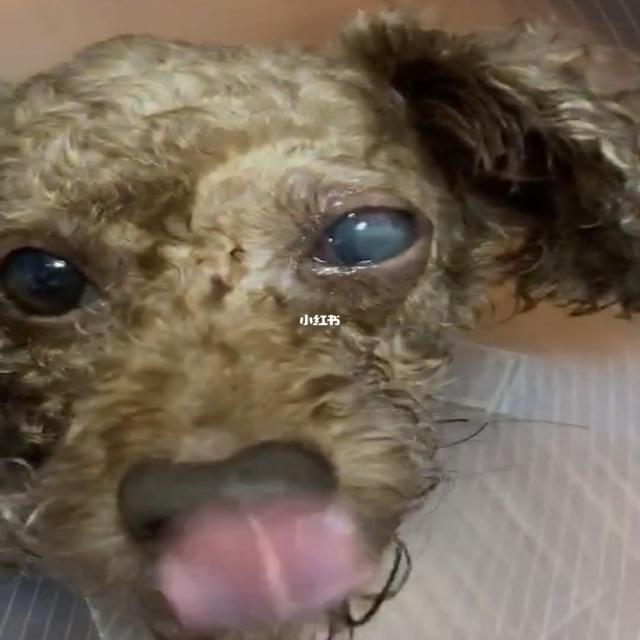eye: (296, 197, 437, 278), (0, 238, 115, 328)
